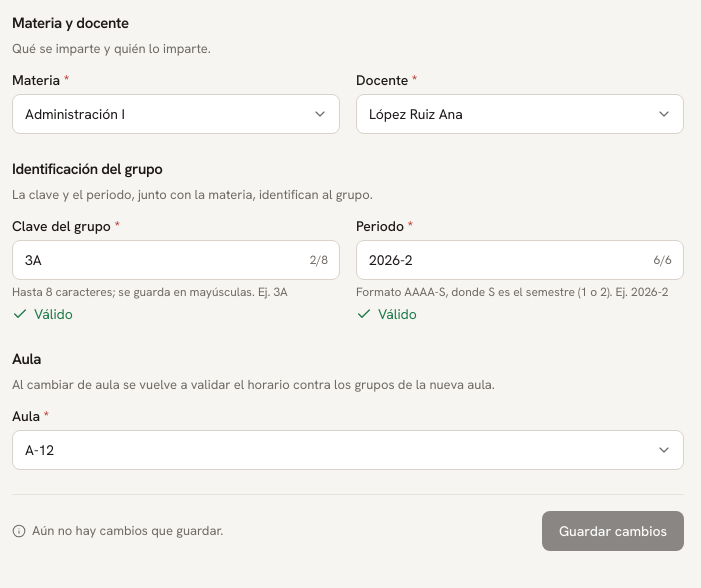
Test: GrupoForm (edición) › un duplicado se dice UNA vez, pegado a la clave, sin perder lo escrito
Expected: the text "Aún no hay cambios que guardar." is shown, left=32, top=522, right=223, bottom=540
Type "3b" into the field labelled "Clave del grupo *" at (176, 260), box left=12, top=240, right=340, bottom=280
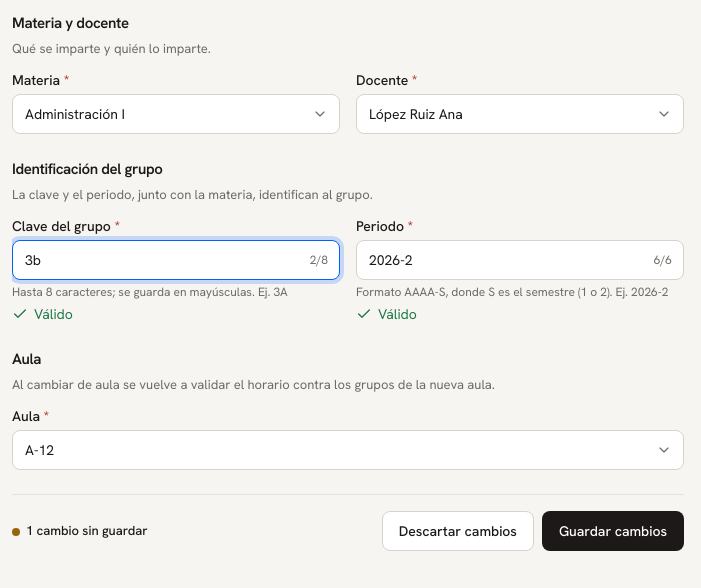
Click the button "Guardar cambios" at (613, 531), box left=542, top=511, right=684, bottom=551
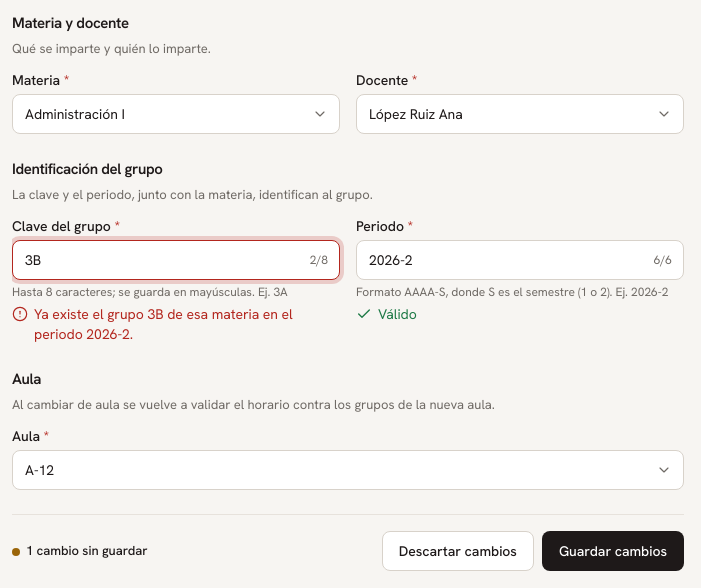
Now the text "Ya existe el grupo 3B de esa materia en el periodo 2026-2." is shown once, box left=12, top=304, right=340, bottom=344
